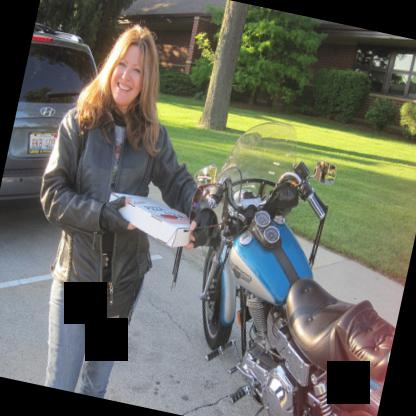handbag: (83, 281, 135, 329)
